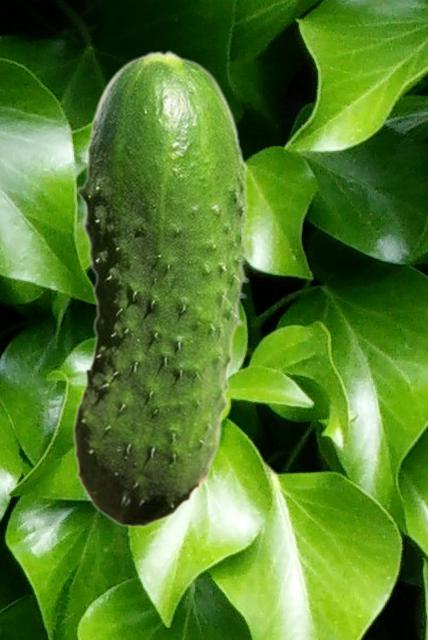cucumber: (72, 49, 250, 527)
